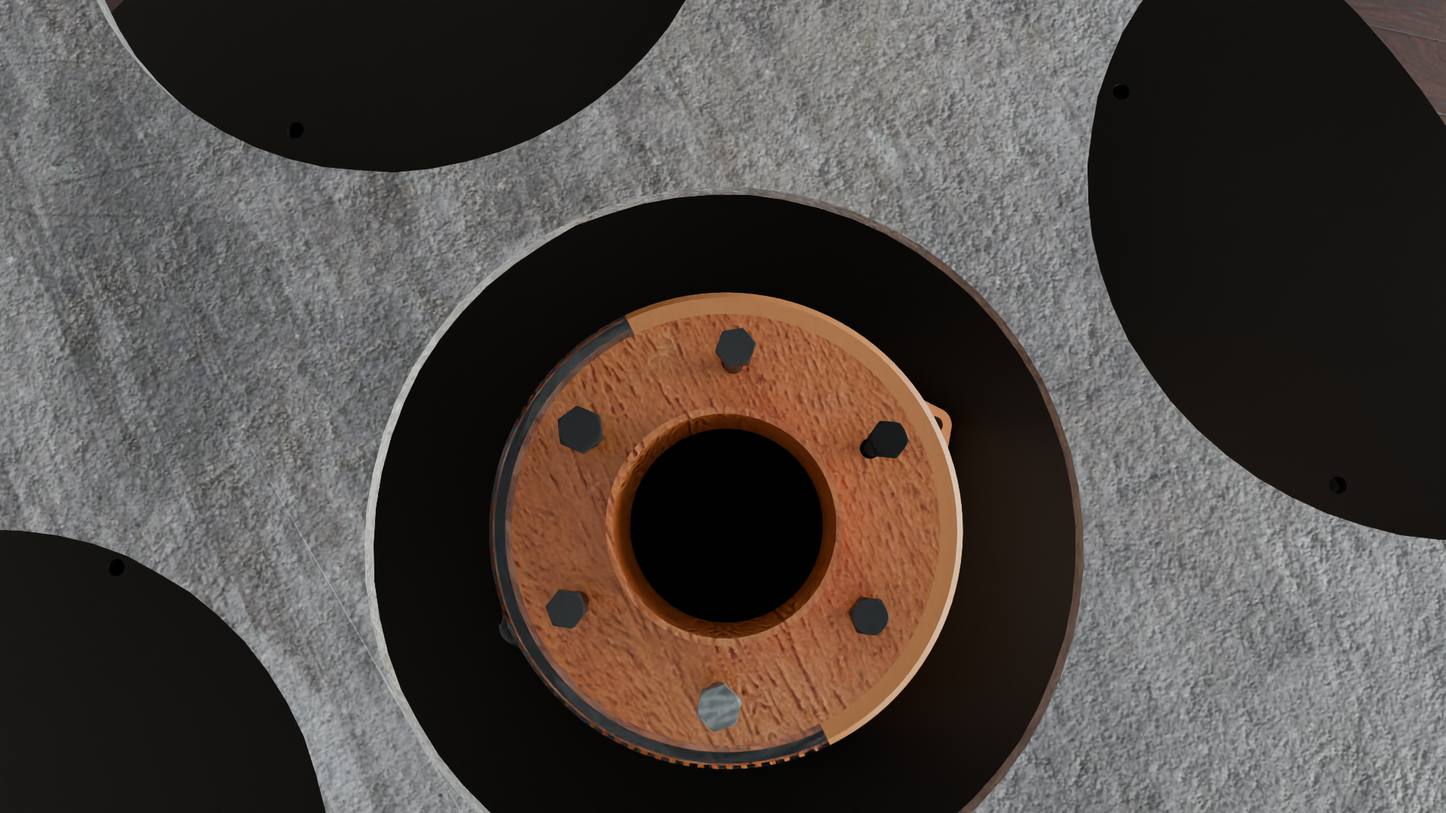bolt: (696, 685, 741, 732), (557, 406, 602, 452), (715, 328, 756, 367), (545, 590, 586, 629), (850, 597, 890, 636), (869, 421, 909, 458)
